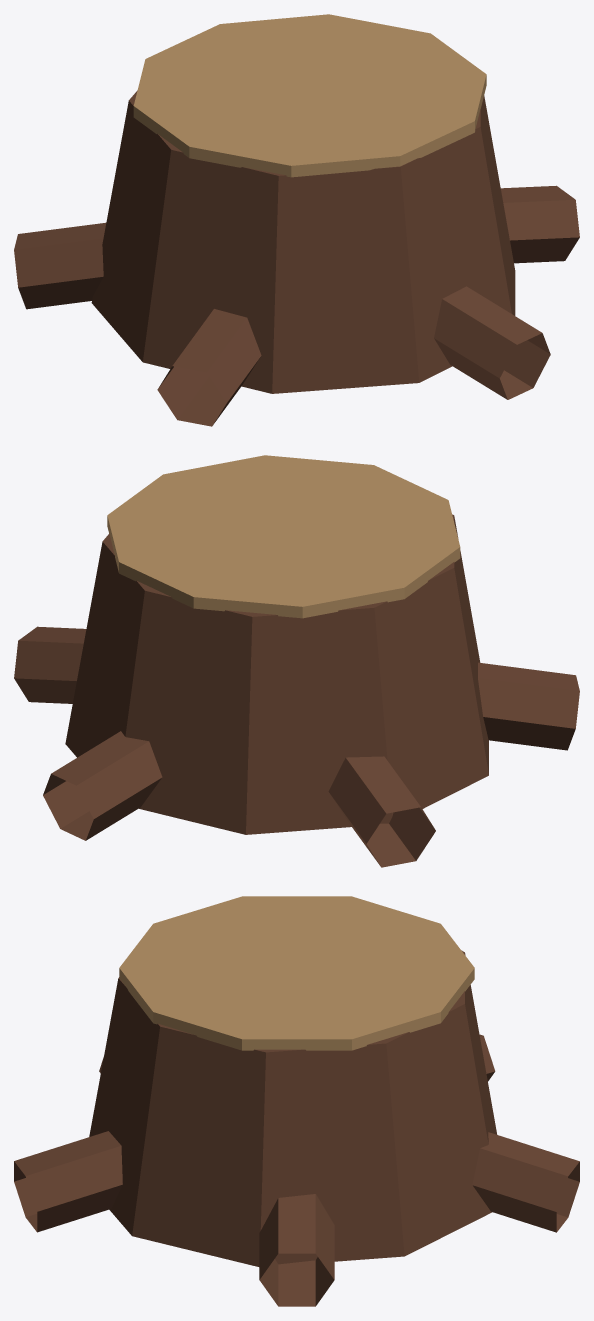
The picture shows the model from 3 angles, top to bottom: view 1: azimuth 30°, elevation 25°; view 2: azimuth 150°, elevation 25°; view 3: azimuth 270°, elevation 25°; orthographic projection.
Visible parts, largest first — view 1: C05_带根树桩; view 2: C05_带根树桩; view 3: C05_带根树桩.
Boxes of the visible parts, x1,y1,x2,y2 form: C05_带根树桩: [14, 14, 579, 426]; C05_带根树桩: [14, 455, 579, 867]; C05_带根树桩: [14, 896, 579, 1306].
Size of the model in its own units: 1.09 by 0.4863 by 1.13.
